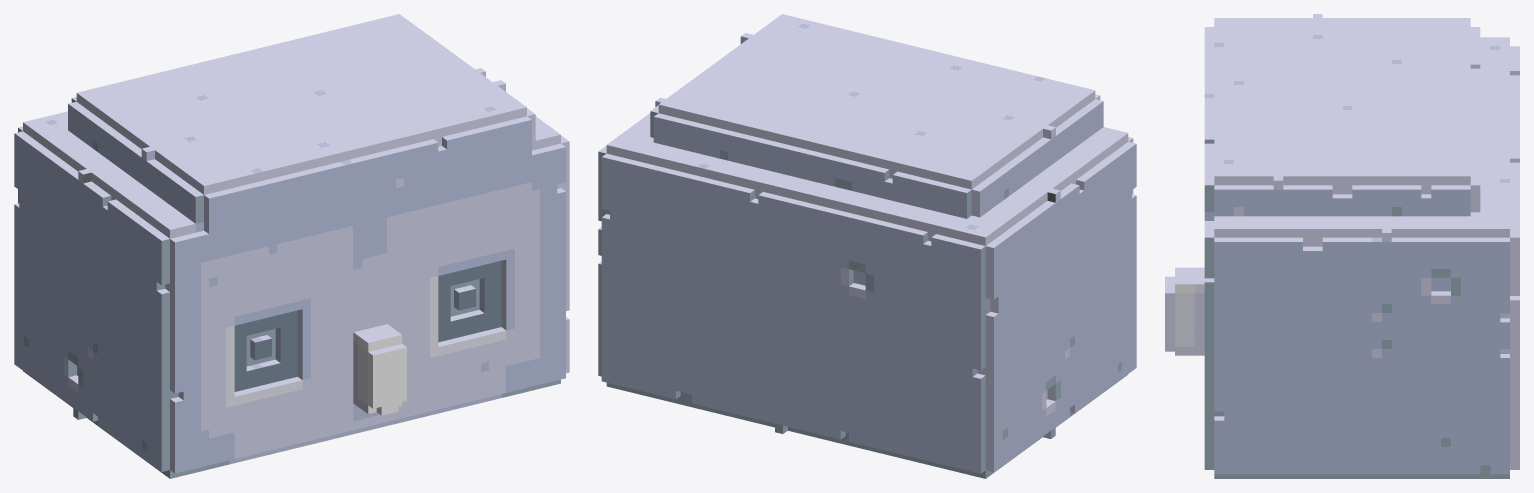
File: owl_statue_drapes_bao.fezao.glb
The picture shows the model from 3 angles, left to right: view 1: azimuth 30°, elevation 25°; view 2: azimuth 150°, elevation 25°; view 3: azimuth 270°, elevation 25°; orthographic projection. The views are drawn at different scales.
Parts seen in each view (by area): view 1: OWL_STATUE_DRAPES_BAO; view 2: OWL_STATUE_DRAPES_BAO; view 3: OWL_STATUE_DRAPES_BAO.
Part boxes in pixels (bbox=[...]): OWL_STATUE_DRAPES_BAO: bbox=[14, 14, 569, 478]; OWL_STATUE_DRAPES_BAO: bbox=[598, 14, 1136, 478]; OWL_STATUE_DRAPES_BAO: bbox=[1165, 14, 1519, 478].
Size of the model in its own units: 3 by 2 by 2.25.
Materials: 1 (1 with a texture image).
